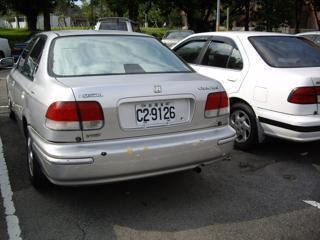plate: (132, 99, 179, 126)
